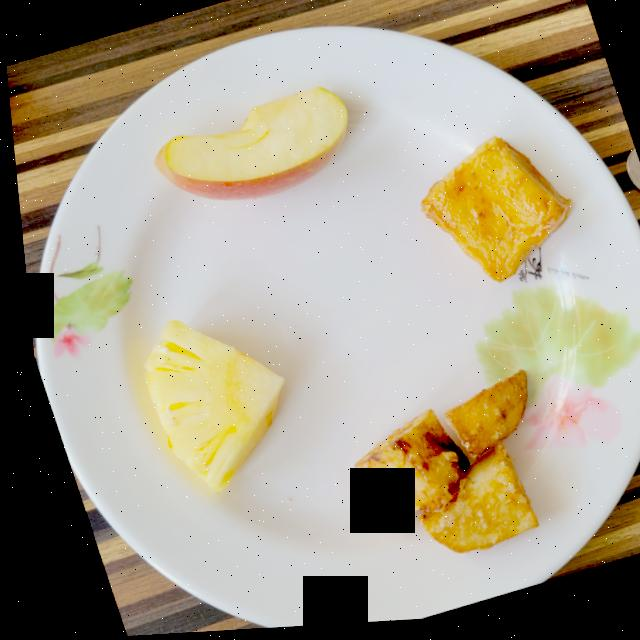apple -sliced-: (151, 90, 345, 202)
coin: (622, 156, 640, 200)
creamy tofu: (416, 142, 566, 287)
fried potato: (345, 376, 527, 557)
pineapple: (136, 321, 275, 494)
